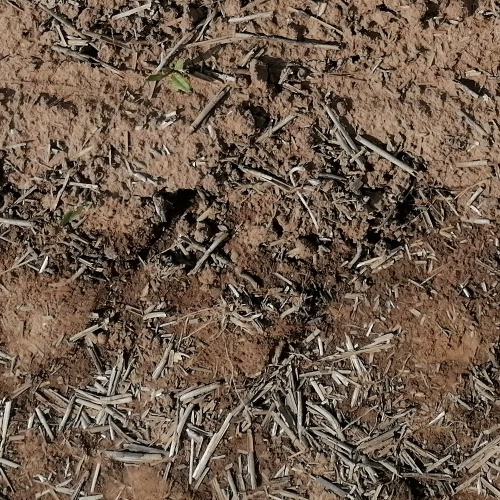beet: (165, 58, 191, 93)
